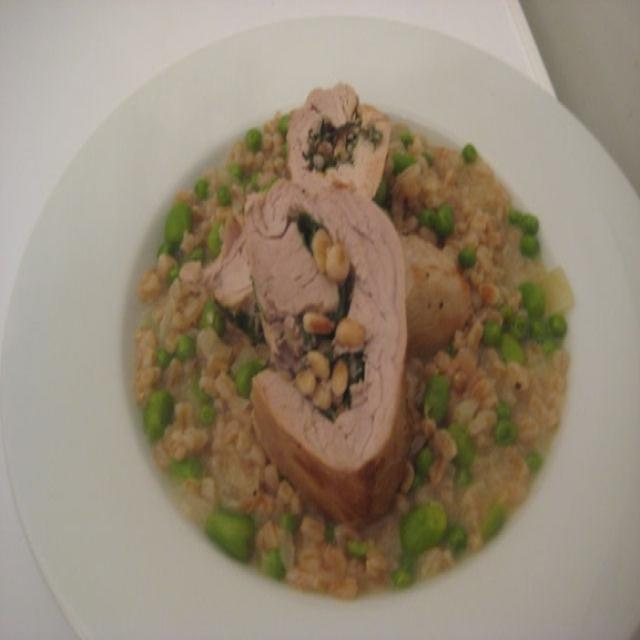猪肉菜式: (101, 80, 603, 615)
